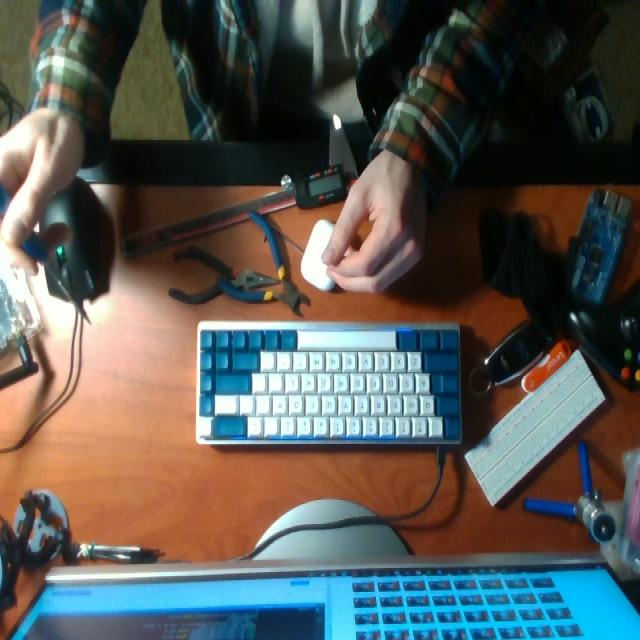keyboard: (195, 325, 462, 442)
